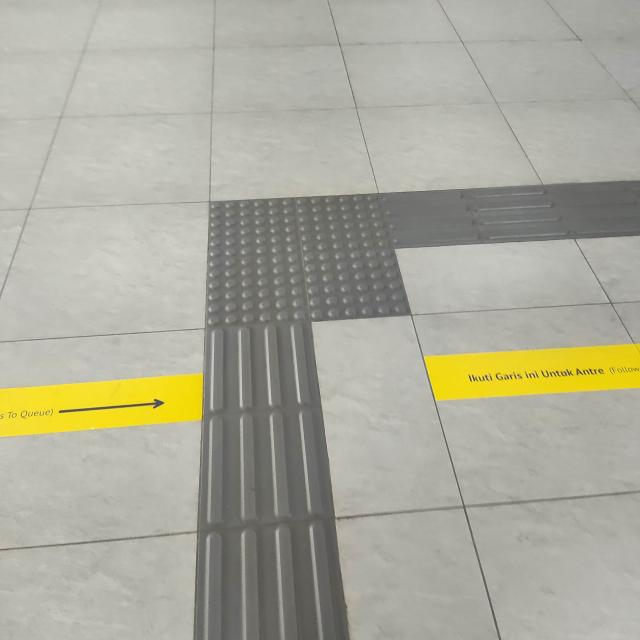kanan: (121, 152, 594, 378)
